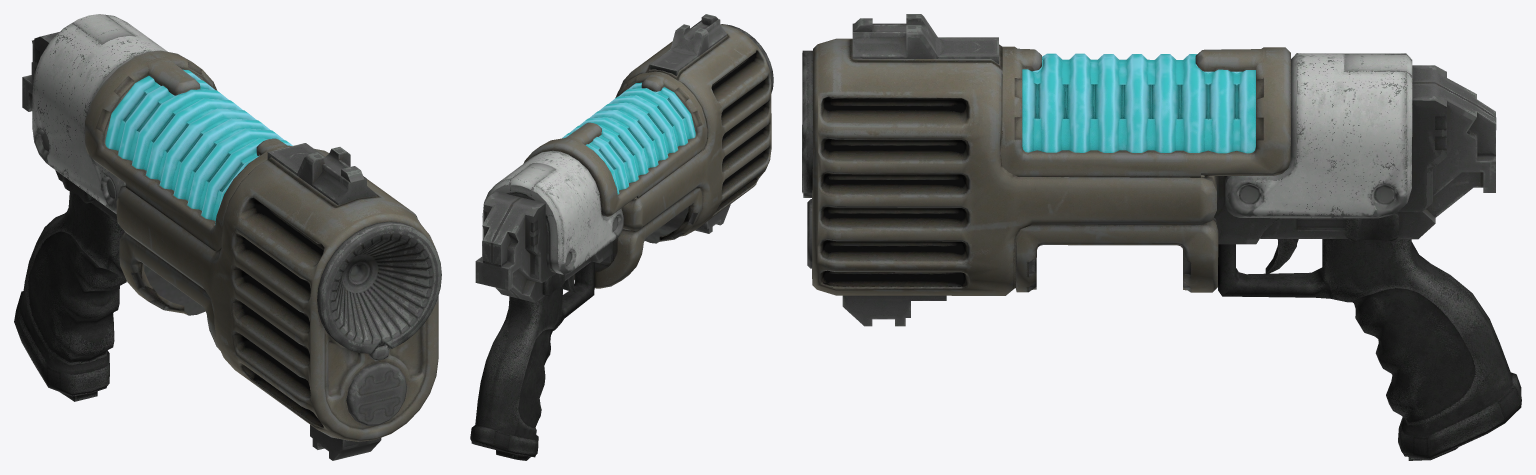
File: plasma_pistol.glb
The picture shows the model from 3 angles, left to right: view 1: azimuth 30°, elevation 25°; view 2: azimuth 150°, elevation 25°; view 3: azimuth 270°, elevation 25°; orthographic projection. The views are drawn at different scales.
Parts seen in each view (by area): view 1: PISTOL_STANDARD_mesh_0; view 2: PISTOL_STANDARD_mesh_0; view 3: PISTOL_STANDARD_mesh_0.
Part boxes in pixels (left/top/right/bottom): PISTOL_STANDARD_mesh_0: left=14, top=14, right=441, bottom=460; PISTOL_STANDARD_mesh_0: left=470, top=14, right=773, bottom=460; PISTOL_STANDARD_mesh_0: left=802, top=14, right=1521, bottom=460.
Bounding box in the file's own units: 0.1092 × 0.3182 × 0.4775.
Materials: 2 (2 with a texture image).
